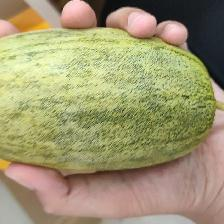gua: (14, 44, 194, 153)
